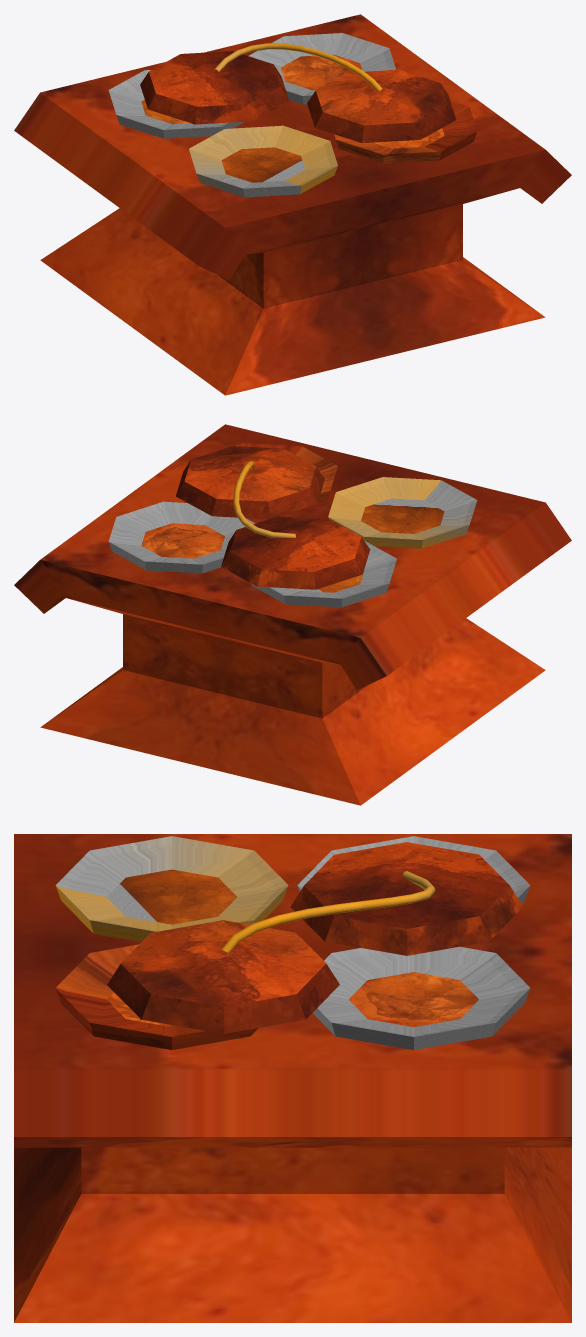
The model's file is Kesi.fbx.
3 views of the same model, one above another, from view 1: azimuth 30°, elevation 25°; view 2: azimuth 150°, elevation 25°; view 3: azimuth 270°, elevation 25° (orthographic). The views are drawn at different scales.
Visible parts, largest first — view 1: Kesi, Cylinder.001, BezierCurve; view 2: Kesi, Cylinder.001, BezierCurve; view 3: Kesi, Cylinder.001, BezierCurve.
Boxes of the visible parts, x1,y1,x2,y2 form: Kesi: (14, 14, 571, 395); Cylinder.001: (140, 51, 456, 143); BezierCurve: (213, 43, 382, 91); Kesi: (14, 424, 571, 805); Cylinder.001: (176, 446, 369, 589); BezierCurve: (233, 461, 295, 538); Kesi: (14, 834, 571, 1322); Cylinder.001: (107, 842, 522, 1033); BezierCurve: (221, 871, 435, 952).
Bounding box in the file's own units: 69.81 × 39.05 × 60.
1 material, 1 textured.
